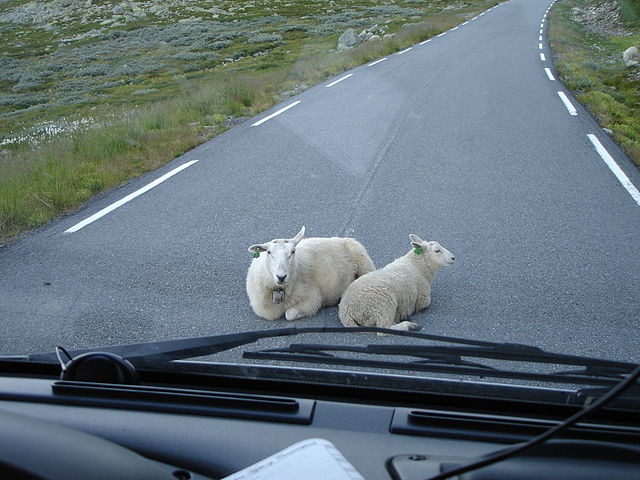resting: (243, 226, 373, 320), (338, 232, 456, 334)
